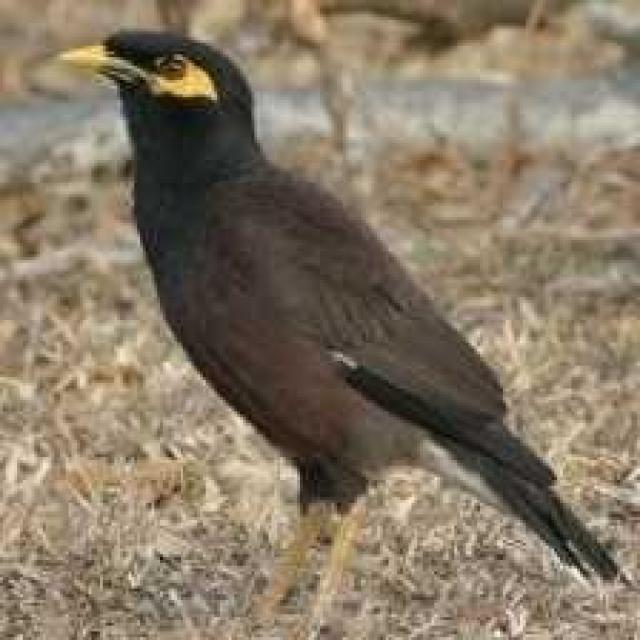bird: (54, 24, 638, 640)
